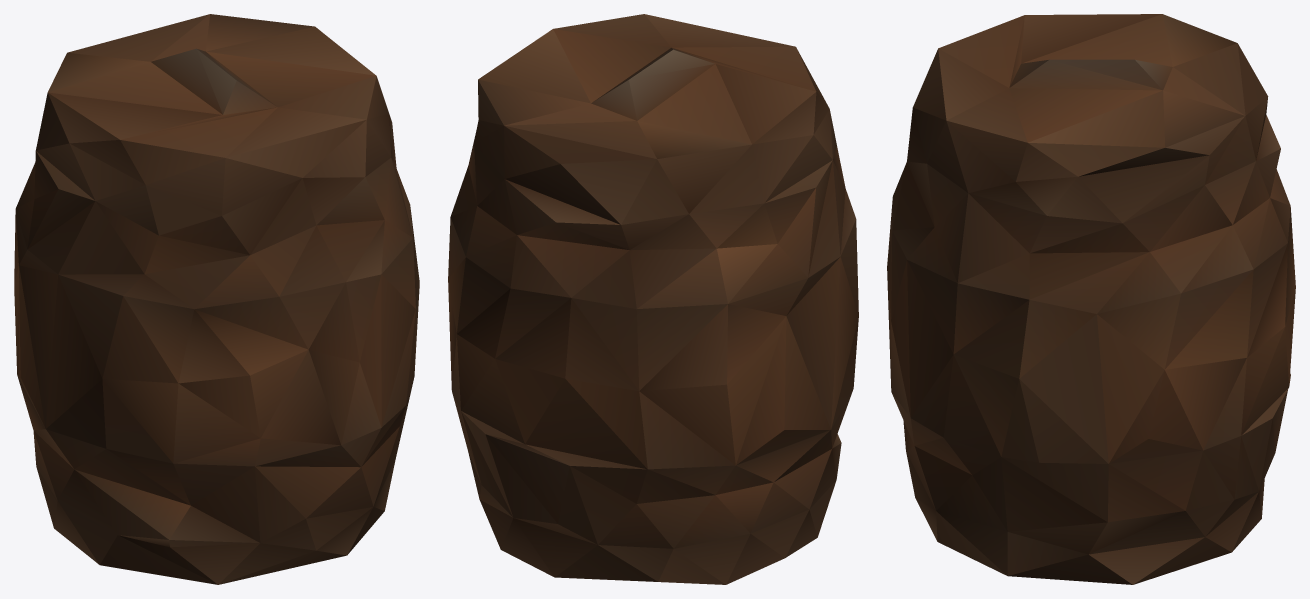
File: barrel_b.glb
3 views of the same model, side by side, from view 1: azimuth 30°, elevation 25°; view 2: azimuth 150°, elevation 25°; view 3: azimuth 270°, elevation 25° (orthographic).
Parts seen in each view (by area): view 1: barrel_b; view 2: barrel_b; view 3: barrel_b.
Boxes of the visible parts, x1=… form: barrel_b: x1=14, y1=14, x2=419, y2=584; barrel_b: x1=448, y1=14, x2=858, y2=584; barrel_b: x1=887, y1=14, x2=1295, y2=584.
Size of the model in its own units: 2.39 by 2.98 by 2.42.
